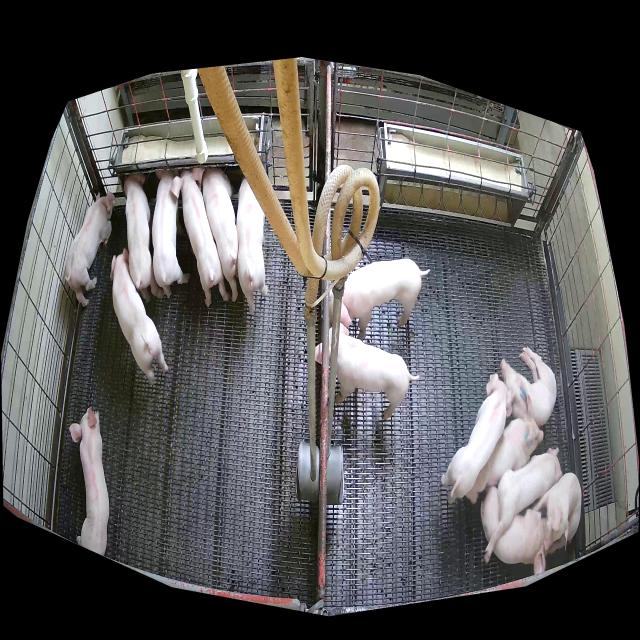pig: (441, 373, 514, 503), (484, 447, 562, 563), (169, 167, 231, 306), (466, 395, 544, 503), (336, 322, 418, 421), (110, 249, 168, 384), (340, 258, 430, 341), (69, 404, 109, 556), (66, 191, 115, 308), (481, 487, 546, 573), (124, 174, 165, 302), (202, 167, 238, 301), (152, 170, 189, 296), (500, 346, 556, 426), (236, 177, 268, 312), (532, 473, 581, 555)
